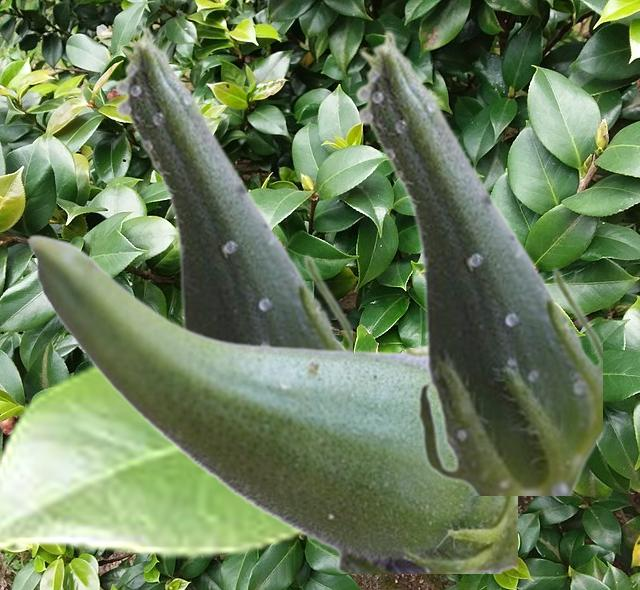okra: (26, 233, 516, 572), (354, 30, 601, 494), (113, 26, 351, 348)
